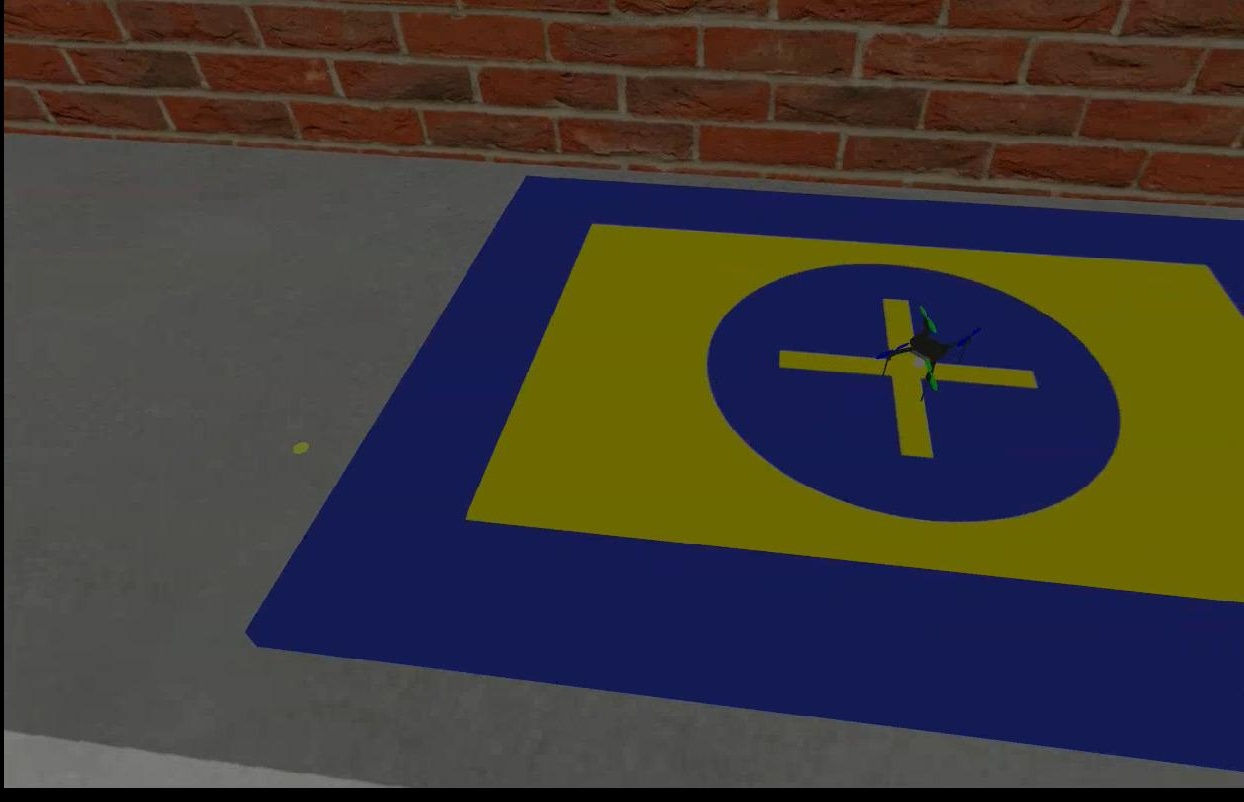large_base: (244, 176, 1242, 771)
